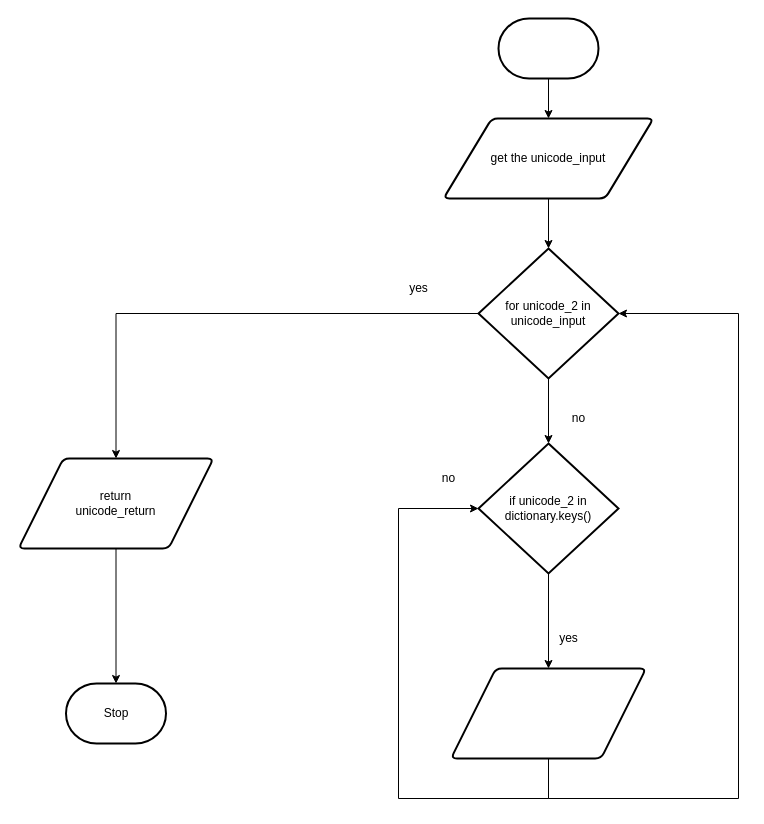
Image size: 764x824. Some labels were removed from this diagram. The box of each missing label's shape, as (x1, y1, x2, y2) in pixels:
Start: (497, 17, 599, 79)
unicode_return.append (dictionary[unicode_2]): (450, 667, 646, 759)
